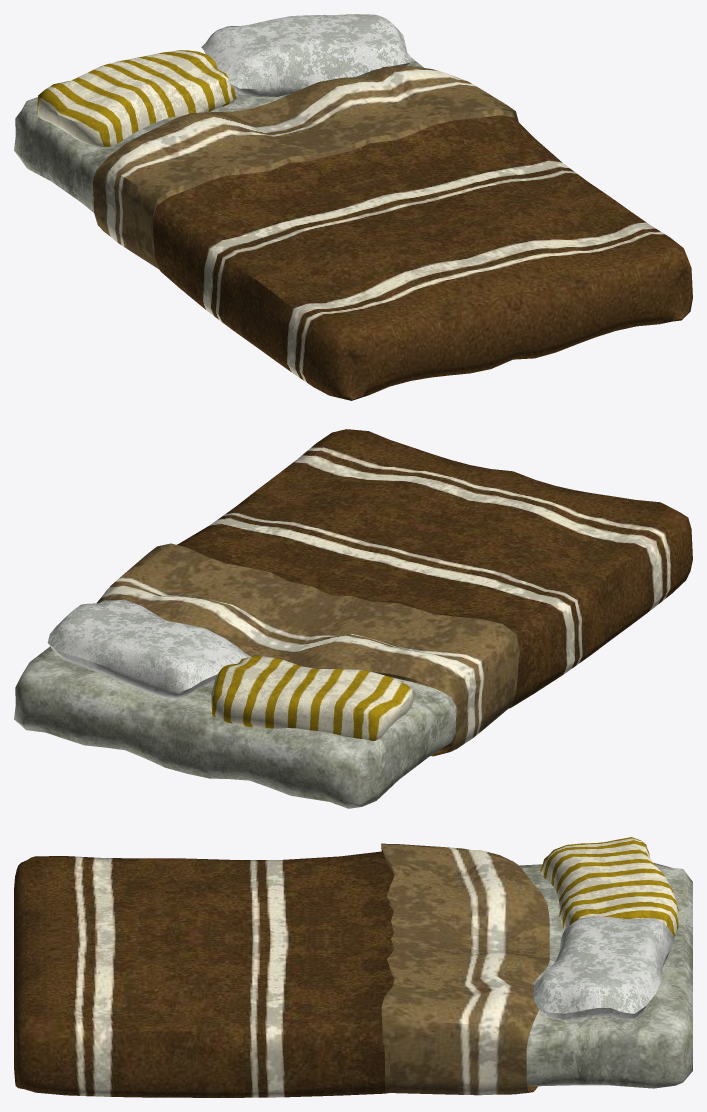
File: Bed_3.glb
3 renders of one model, top to bottom at view 1: azimuth 30°, elevation 25°; view 2: azimuth 150°, elevation 25°; view 3: azimuth 270°, elevation 25°, orthographic.
Visible parts, largest first — view 1: Bed_3; view 2: Bed_3; view 3: Bed_3.
Boxes of the visible parts, x1,y1,x2,y2 form: Bed_3: (14,14,692,400); Bed_3: (14,429,692,808); Bed_3: (14,837,692,1097).
Size of the model in its own units: 1.23 by 0.3442 by 1.95.
3 materials, 3 textured.
